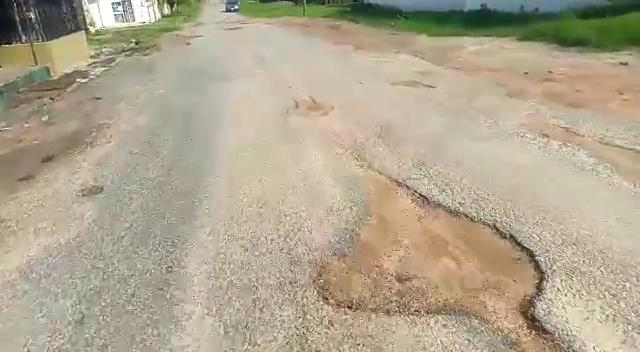pothole: (313, 165, 548, 326), (284, 96, 334, 117), (390, 79, 436, 91)
